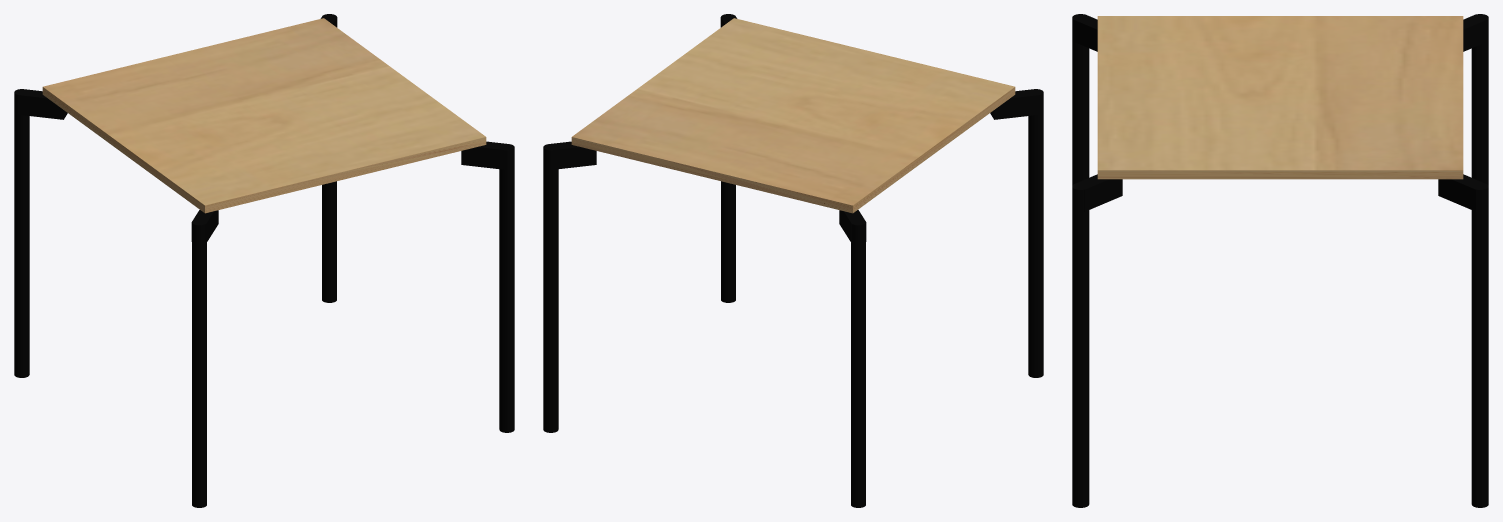
Rendered from newtable.fbx.
3 renders of one model, left to right at view 1: azimuth 30°, elevation 25°; view 2: azimuth 150°, elevation 25°; view 3: azimuth 270°, elevation 25°, orthographic. The views are drawn at different scales.
Parts seen in each view (by area): view 1: Cube, Cylinder, Cube.001; view 2: Cube, Cylinder, Cube.001; view 3: Cube, Cylinder, Cube.001.
Part boxes in pixels (x1,y1,x2,y2): Cube: (42,18,486,213); Cylinder: (14,14,514,507); Cube.001: (17,15,507,243); Cube: (571,18,1015,213); Cylinder: (543,14,1043,507); Cube.001: (547,15,1040,243); Cube: (1097,16,1463,179); Cylinder: (1072,14,1488,507); Cube.001: (1072,15,1488,211).
Size of the model in its own units: 1710 by 1480 by 1710.
Materials: 3 (1 with a texture image).
